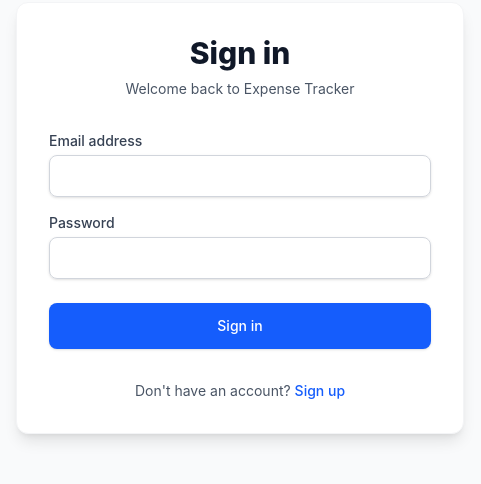
Test: Login Component › shows validation errors for empty fields
Click the button "Sign in": (240, 326) [49,303,431,349]
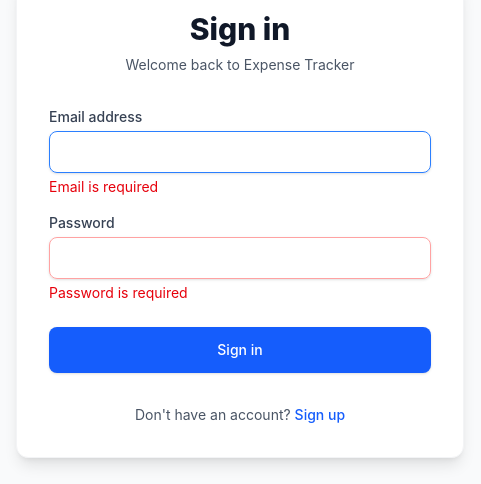
Now the text "Email is required" is shown, box [49,178,158,195]
Now the text "Password is required" is shown, box [49,284,188,301]
